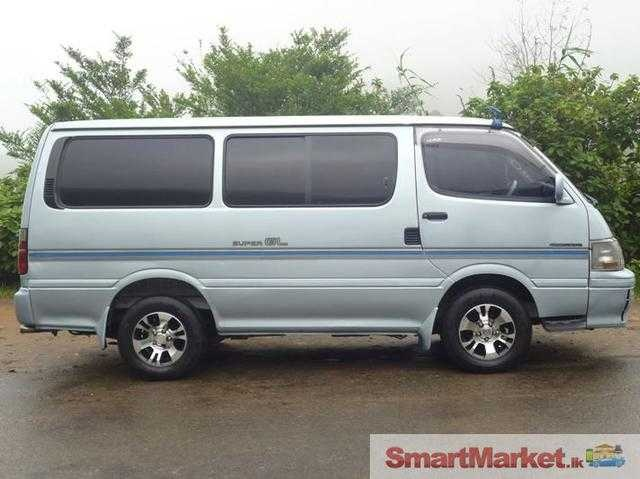van: (13, 114, 636, 375)
